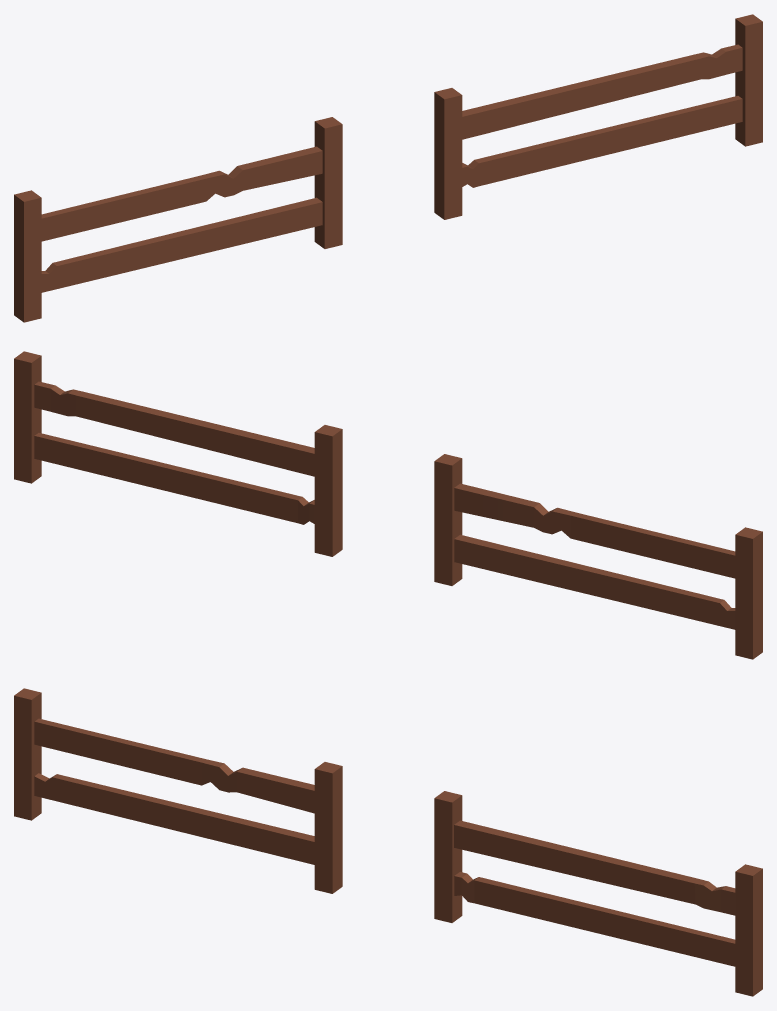
Rendered from Wooden Fence.fbx.
3 views of the same model, one above another, from view 1: azimuth 30°, elevation 25°; view 2: azimuth 150°, elevation 25°; view 3: azimuth 330°, elevation 25° (orthographic).
Parts seen in each view (by area): view 1: Wooden Fence 2, Wooden Fence 1; view 2: Wooden Fence 2, Wooden Fence 1; view 3: Wooden Fence 1, Wooden Fence 2.
Part boxes in pixels (x1,y1,x2,y2): Wooden Fence 2: [14, 117, 342, 322]; Wooden Fence 1: [434, 14, 762, 219]; Wooden Fence 2: [434, 454, 762, 659]; Wooden Fence 1: [14, 351, 342, 556]; Wooden Fence 1: [434, 791, 762, 996]; Wooden Fence 2: [14, 688, 342, 893].
Size of the model in its own units: 703 by 110 by 16.55.
